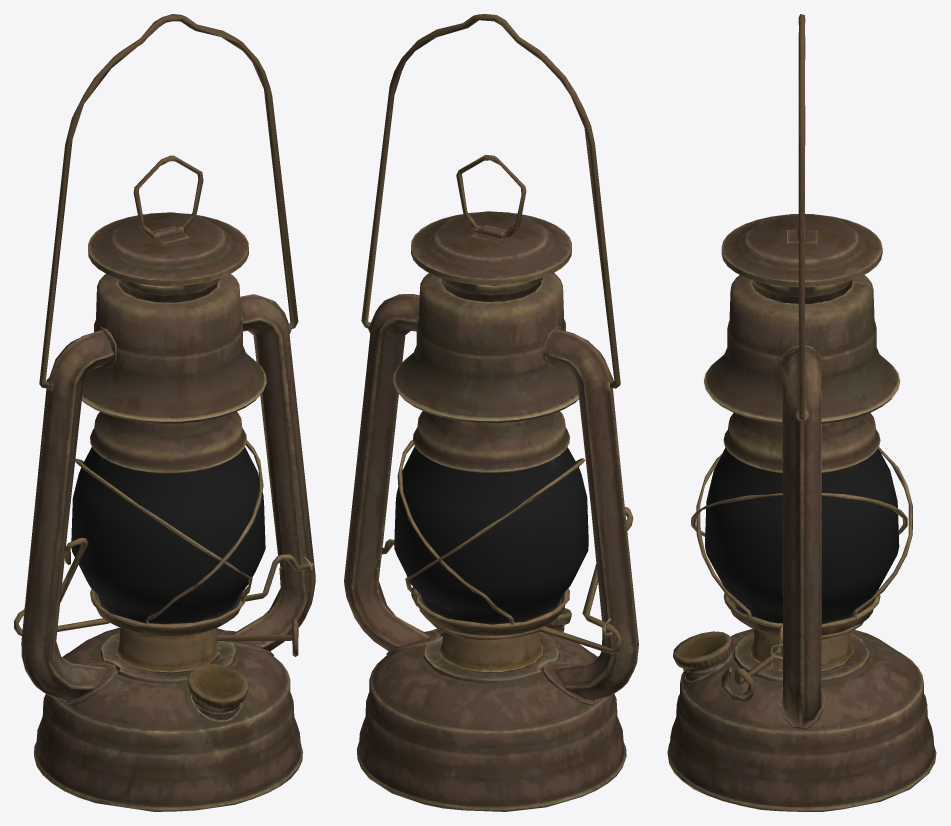
The model's file is ph-lantern-01.glb.
3 renders of one model, left to right at view 1: azimuth 30°, elevation 25°; view 2: azimuth 150°, elevation 25°; view 3: azimuth 270°, elevation 25°, orthographic.
Parts seen in each view (by area): view 1: Lantern_01, Lantern_01_glass; view 2: Lantern_01, Lantern_01_glass; view 3: Lantern_01, Lantern_01_glass.
Part boxes in pixels (x1,y1,x2,y2): Lantern_01: (14,14,315,811); Lantern_01_glass: (71,447,265,623); Lantern_01: (344,14,638,811); Lantern_01_glass: (394,446,588,624); Lantern_01: (667,14,936,811); Lantern_01_glass: (705,447,899,624).
Bounding box in the file's own units: 0.1219 × 0.2938 × 0.097.
2 materials, 2 textured.
